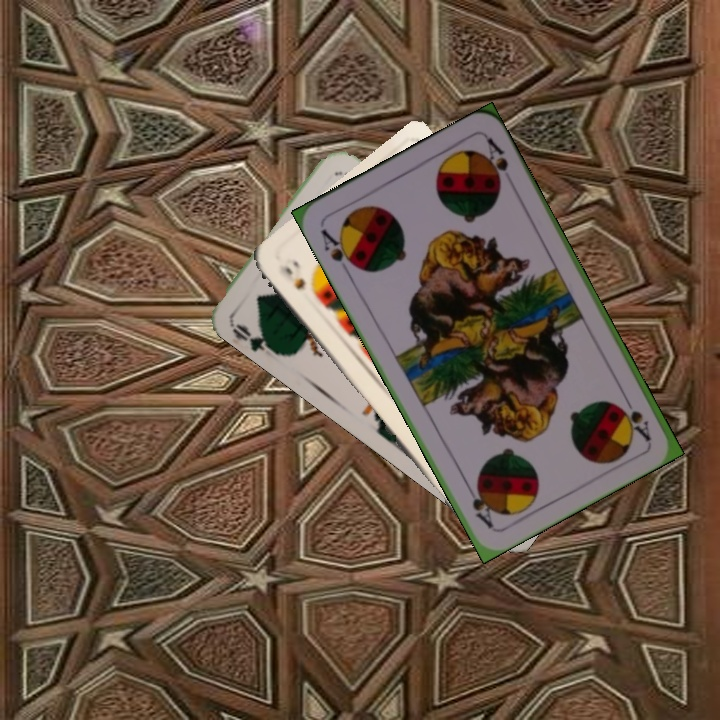GO: (227, 319, 279, 357)
S10: (274, 261, 308, 293)
SA: (316, 225, 361, 276), (618, 390, 654, 444)
